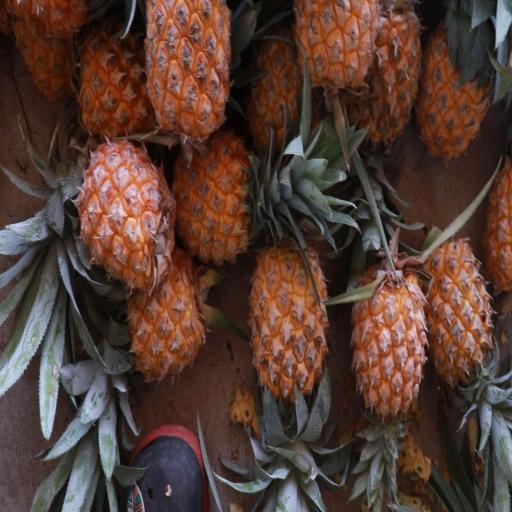Pineapple - v8 v1: (162, 115, 286, 262), (71, 133, 182, 297), (248, 229, 332, 440), (350, 250, 432, 434), (420, 228, 498, 406), (142, 0, 236, 139), (117, 246, 207, 389), (416, 12, 498, 168), (344, 2, 424, 148), (290, 0, 388, 100)
